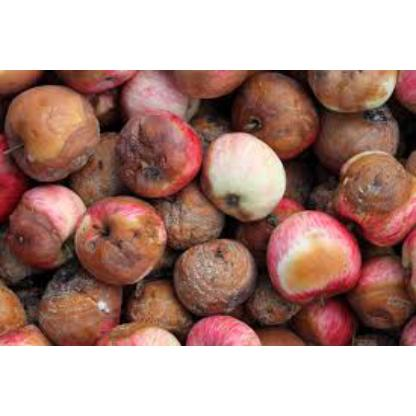apple: (266, 202, 356, 296), (75, 194, 168, 276), (115, 108, 201, 192), (201, 132, 285, 218), (335, 148, 409, 244), (4, 185, 88, 263), (6, 92, 92, 168), (234, 73, 314, 153), (176, 235, 258, 312), (40, 262, 121, 334), (312, 100, 396, 168), (114, 270, 198, 334), (150, 179, 228, 245)
